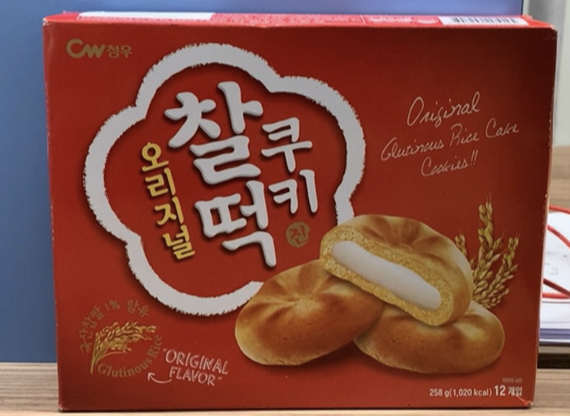cookies_200g-299g: (60, 32, 527, 400)
